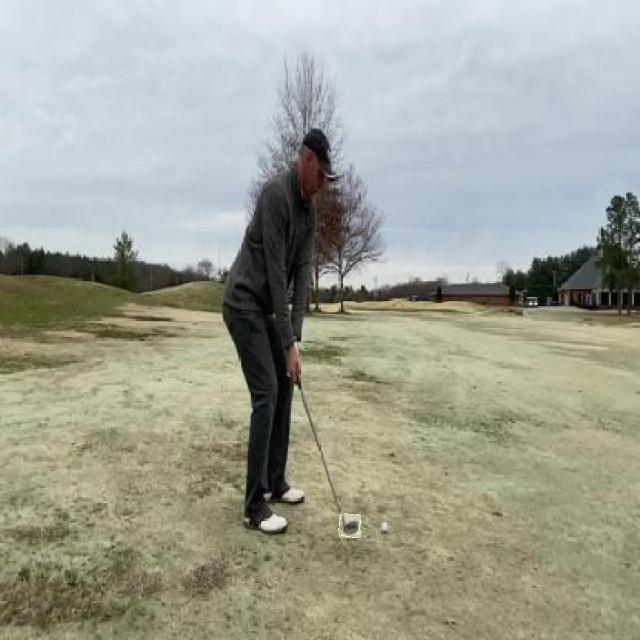club head: (339, 514, 361, 538)
